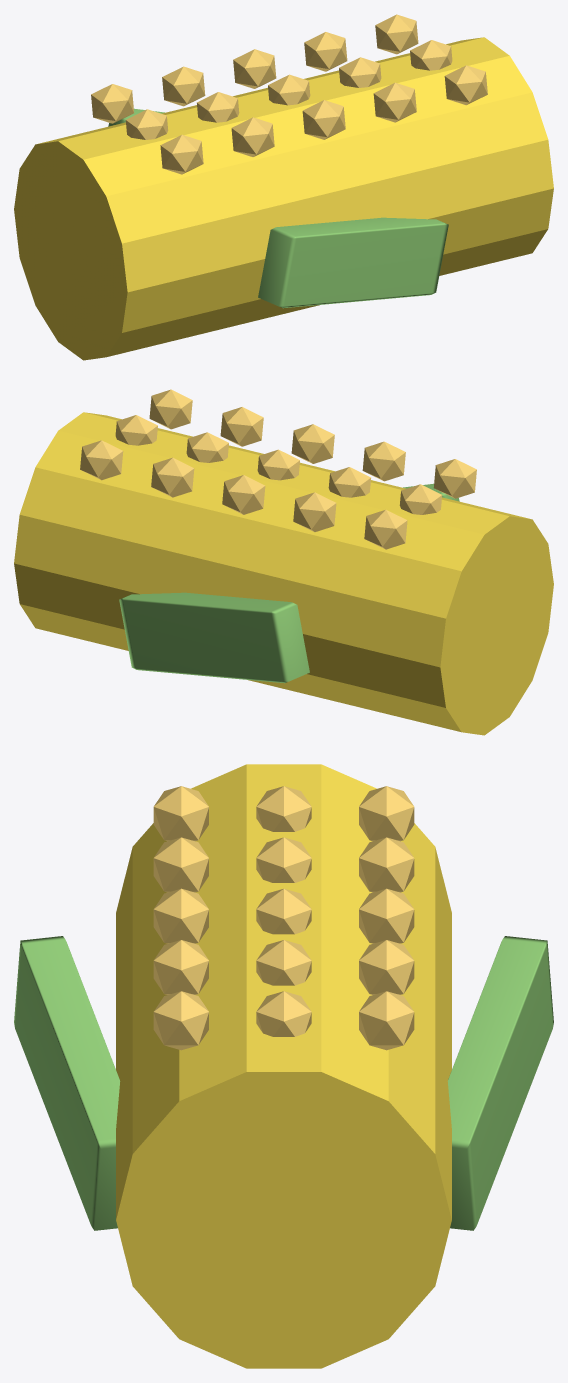
Rendered from corn.glb.
3 renders of one model, top to bottom at view 1: azimuth 30°, elevation 25°; view 2: azimuth 150°, elevation 25°; view 3: azimuth 270°, elevation 25°, orthographic. The views are drawn at different scales.
Parts seen in each view (by area): view 1: cob, left husk, kernel.003, kernel.008, kernel.012, kernel.006, kernel.014, kernel.002, kernel.005, kernel, kernel.009, kernel.011 (+5 smaller); view 2: cob, right husk, kernel.005, kernel.006, kernel.014, kernel.008, kernel.012, kernel, kernel.003, kernel.002, kernel.011, kernel.009 (+5 smaller); view 3: cob, left husk, right husk, kernel.012, kernel.014, kernel.009, kernel.011, kernel.003, kernel.005, kernel, kernel.002, kernel.006 (+6 smaller).
Part boxes in pixels (x1,y1,x2,y2): cob: (14,37,553,360); left husk: (258,217,448,308); kernel.003: (231,117,274,156); kernel.008: (233,49,276,88); kernel.012: (444,65,487,105); kernel.006: (302,100,345,139); kernel.014: (375,14,418,54); kernel.002: (91,84,134,123); kernel.005: (162,66,205,106); kernel: (160,134,203,174); kernel.009: (373,82,416,122); kernel.011: (304,32,347,71); cob: (14,412,553,735); right husk: (119,592,309,683); kernel.005: (293,492,336,531); kernel.006: (291,424,334,463); kernel.014: (80,440,123,480); kernel.008: (222,475,265,514); kernel.012: (149,389,192,429); kernel: (433,459,476,498); kernel.003: (362,441,405,481); kernel.002: (364,509,407,549); kernel.011: (151,457,194,497); kernel.009: (220,407,263,446); cob: (116,764,451,1368); left husk: (14,936,120,1230); right husk: (447,936,553,1230); kernel.012: (153,991,208,1050); kernel.014: (359,991,414,1050); kernel.009: (153,940,208,994); kernel.011: (359,940,414,994); kernel.003: (153,837,208,892); kernel.005: (359,837,414,892); kernel: (153,786,208,841); kernel.002: (359,786,414,841); kernel.006: (153,888,208,943).
Bounding box in the file's own units: 0.78 × 0.3905 × 0.5787.
